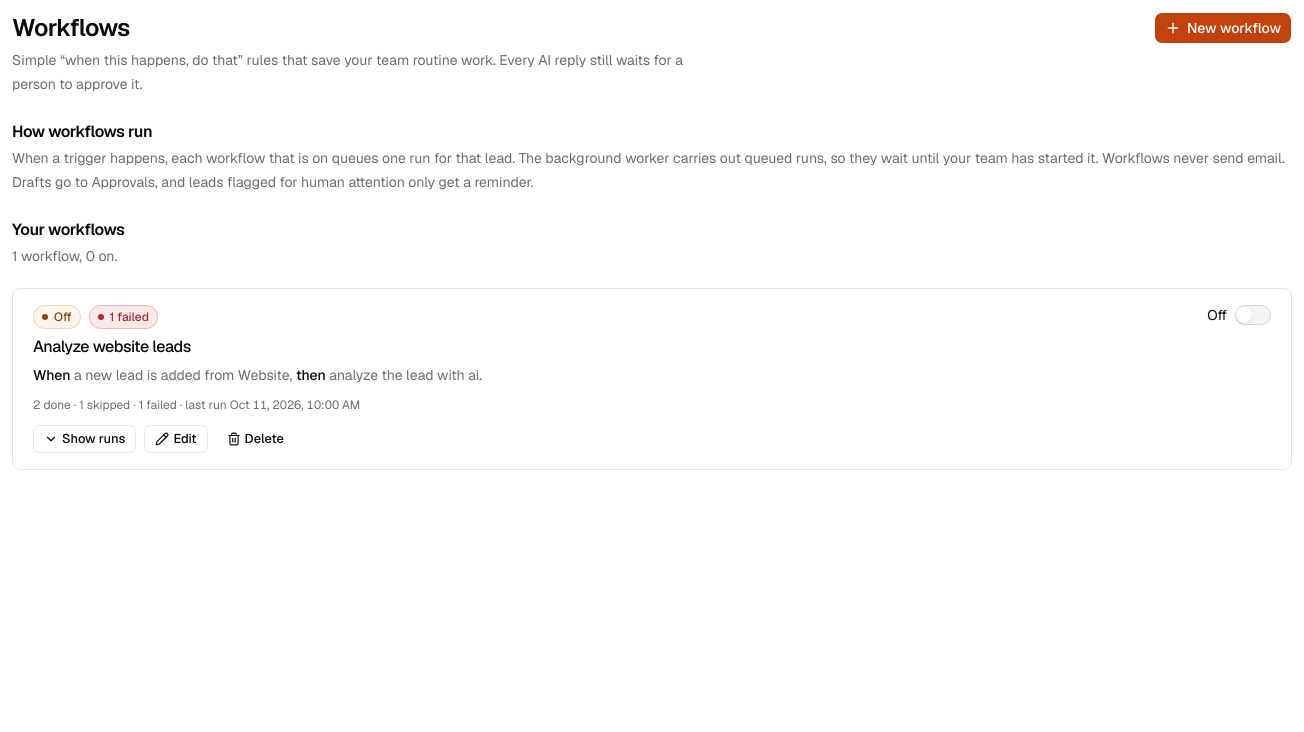
Test case: Workflows page › shows run history on request
The width and height of the screenshot is (1304, 732).
Click the button "Show runs" at coordinates (85, 439), box top-left (33, 425), bottom-right (136, 453)
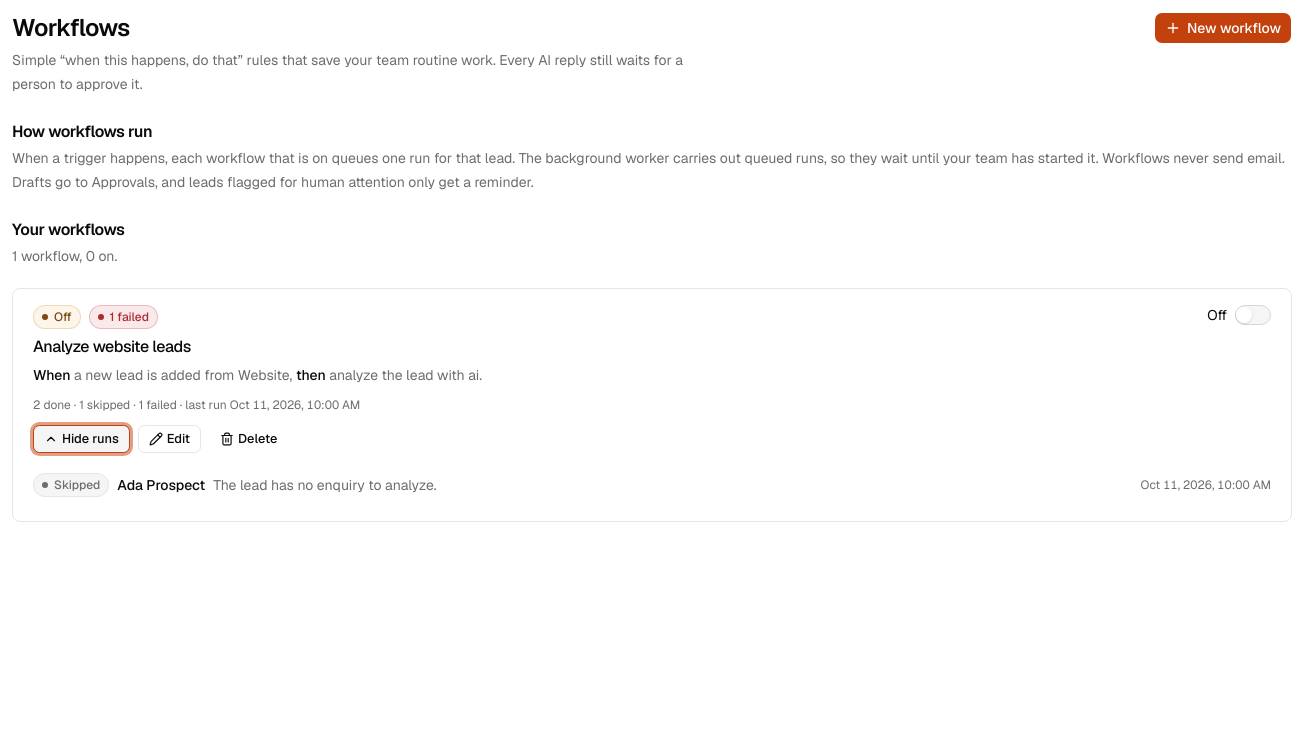
Now the text "Skipped" is shown, box top-left (33, 473), bottom-right (109, 497)
